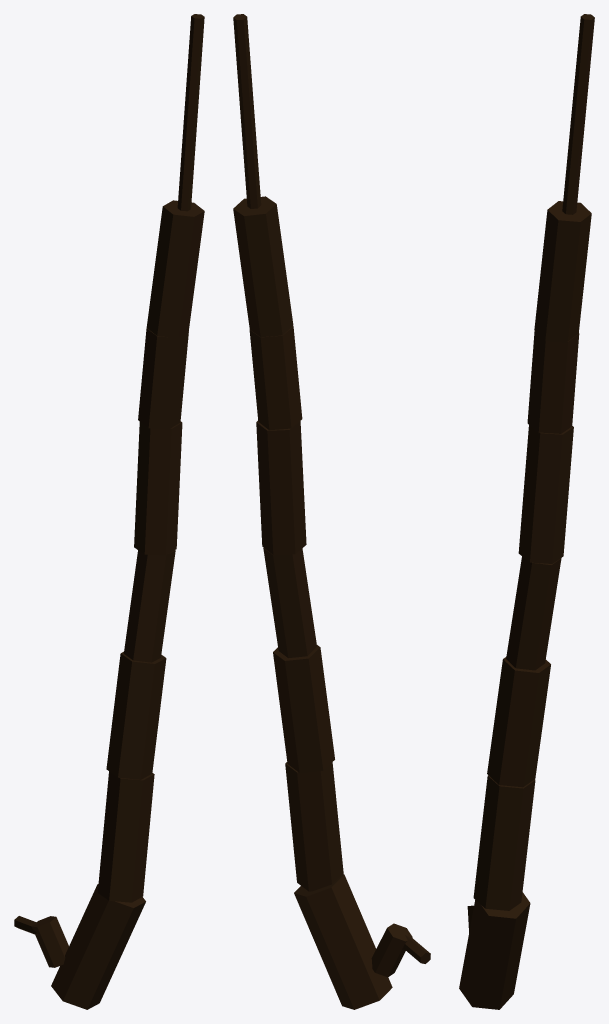
The model's file is 2022_tree_556_no_leaf.obj.
3 views of the same model, side by side, from view 1: azimuth 30°, elevation 25°; view 2: azimuth 210°, elevation 25°; view 3: azimuth 330°, elevation 25° (orthographic). The views are drawn at different scales.
Visible parts, largest first — view 1: TrunkAndBranches; view 2: TrunkAndBranches; view 3: TrunkAndBranches.
Part boxes in pixels (x1,y1,x2,y2): TrunkAndBranches: [14, 14, 204, 1009]; TrunkAndBranches: [233, 14, 430, 1009]; TrunkAndBranches: [459, 14, 594, 1009].
Size of the model in its own units: 0.3984 by 2.57 by 0.2951.
